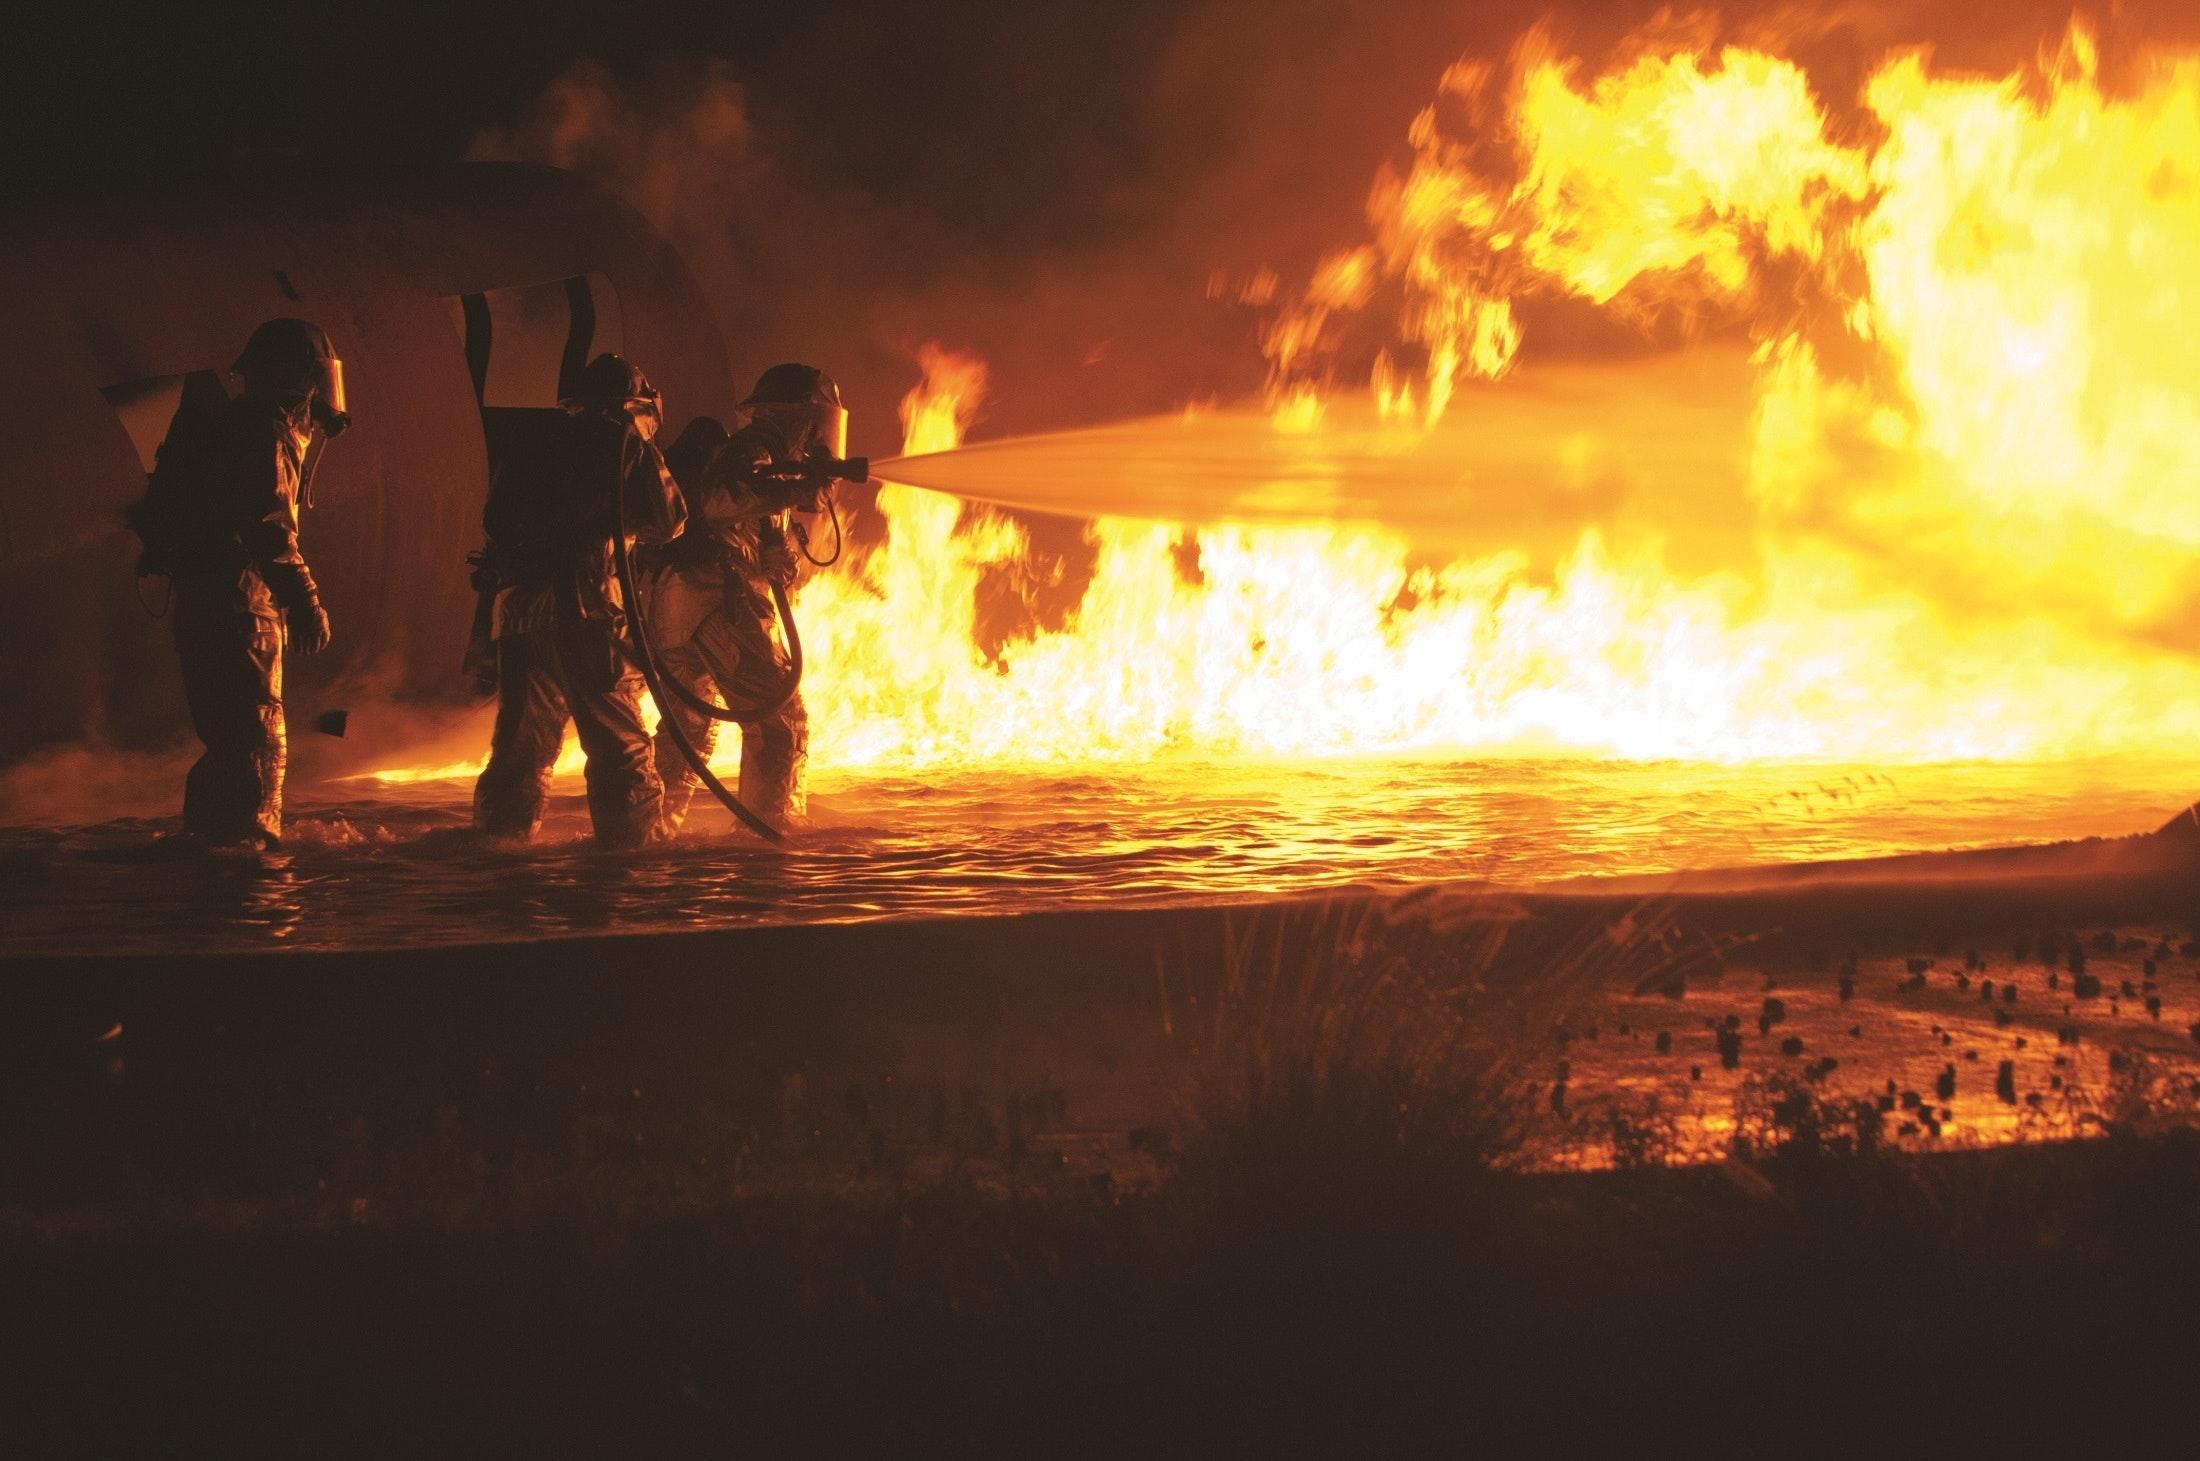Fire: (272, 55, 2200, 815)
